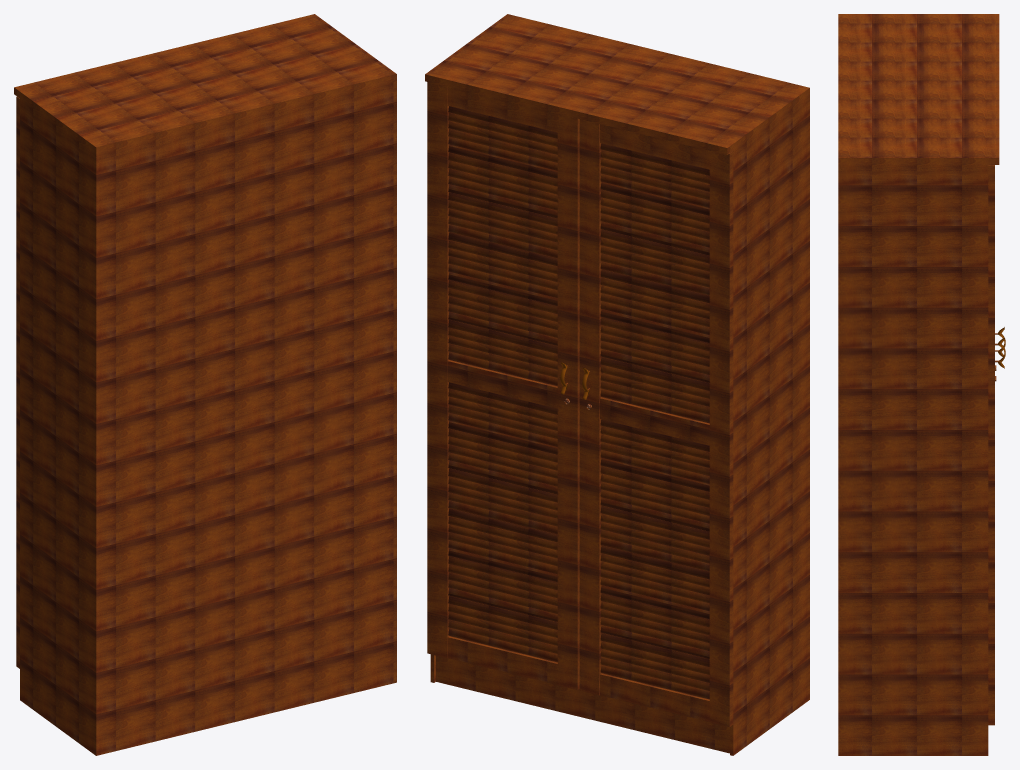
The picture shows the model from 3 angles, left to right: view 1: azimuth 30°, elevation 25°; view 2: azimuth 150°, elevation 25°; view 3: azimuth 270°, elevation 25°; orthographic projection. The views are drawn at different scales.
Visible parts, largest first — view 1: mesh41_mesh41-geometry, mesh25_mesh25-geometry; view 2: mesh41_mesh41-geometry, mesh25_mesh25-geometry, mesh6_mesh6-geometry, mesh15_mesh15-geometry, mesh1_mesh1-geometry, mesh32_mesh32-geometry, mesh20_mesh20-geometry; view 3: mesh41_mesh41-geometry, mesh6_mesh6-geometry.
Part boxes in pixels (<box>): mesh41_mesh41-geometry: <box>14,14,396,755</box>; mesh25_mesh25-geometry: <box>16,96,19,668</box>; mesh41_mesh41-geometry: <box>425,14,809,755</box>; mesh25_mesh25-geometry: <box>579,119,733,727</box>; mesh6_mesh6-geometry: <box>427,82,579,689</box>; mesh15_mesh15-geometry: <box>448,382,557,661</box>; mesh1_mesh1-geometry: <box>448,106,557,385</box>; mesh32_mesh32-geometry: <box>600,419,709,698</box>; mesh20_mesh20-geometry: <box>600,143,709,422</box>; mesh41_mesh41-geometry: <box>838,14,999,755</box>; mesh6_mesh6-geometry: <box>988,165,999,725</box>.
Bounding box in the file's own units: 0.448 × 0.8666 × 0.2199.
